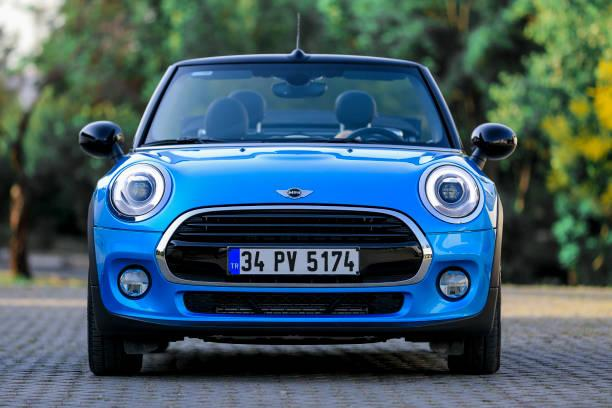mini: (270, 182, 321, 211)
